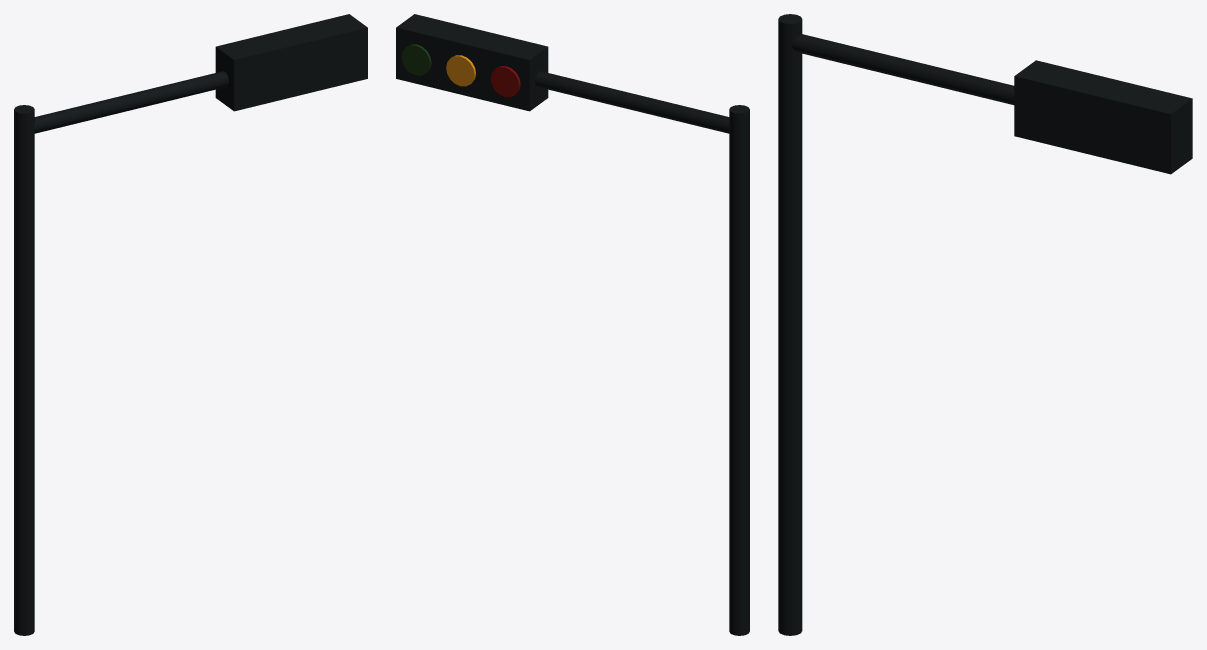
The model's file is traffic_signal.obj.
3 views of the same model, side by side, from view 1: azimuth 30°, elevation 25°; view 2: azimuth 150°, elevation 25°; view 3: azimuth 330°, elevation 25° (orthographic). The views are drawn at different scales.
Parts seen in each view (by area): view 1: Dark_Frame; view 2: Dark_Frame, Foliage, Yellow_Paint, Safety_Red; view 3: Dark_Frame.
Part boxes in pixels (x1,y1,x2,y2): Dark_Frame: [14, 14, 367, 635]; Dark_Frame: [396, 14, 749, 635]; Foliage: [401, 44, 431, 75]; Yellow_Paint: [446, 55, 475, 86]; Safety_Red: [490, 66, 520, 97]; Dark_Frame: [778, 14, 1192, 635].
Size of the model in its own units: 3.85 by 5.68 by 0.41.
